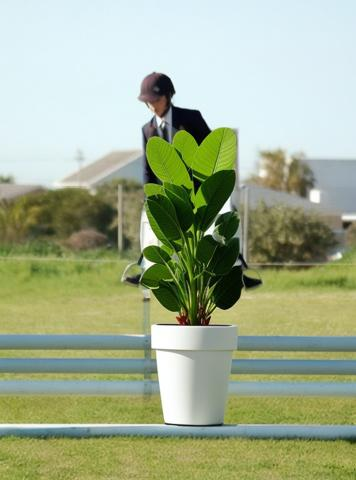person: (120, 72, 266, 290)
pottedplant: (142, 128, 239, 426)
